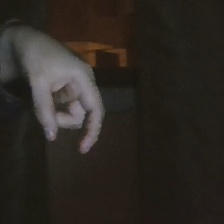Q: (5, 10, 115, 165)
